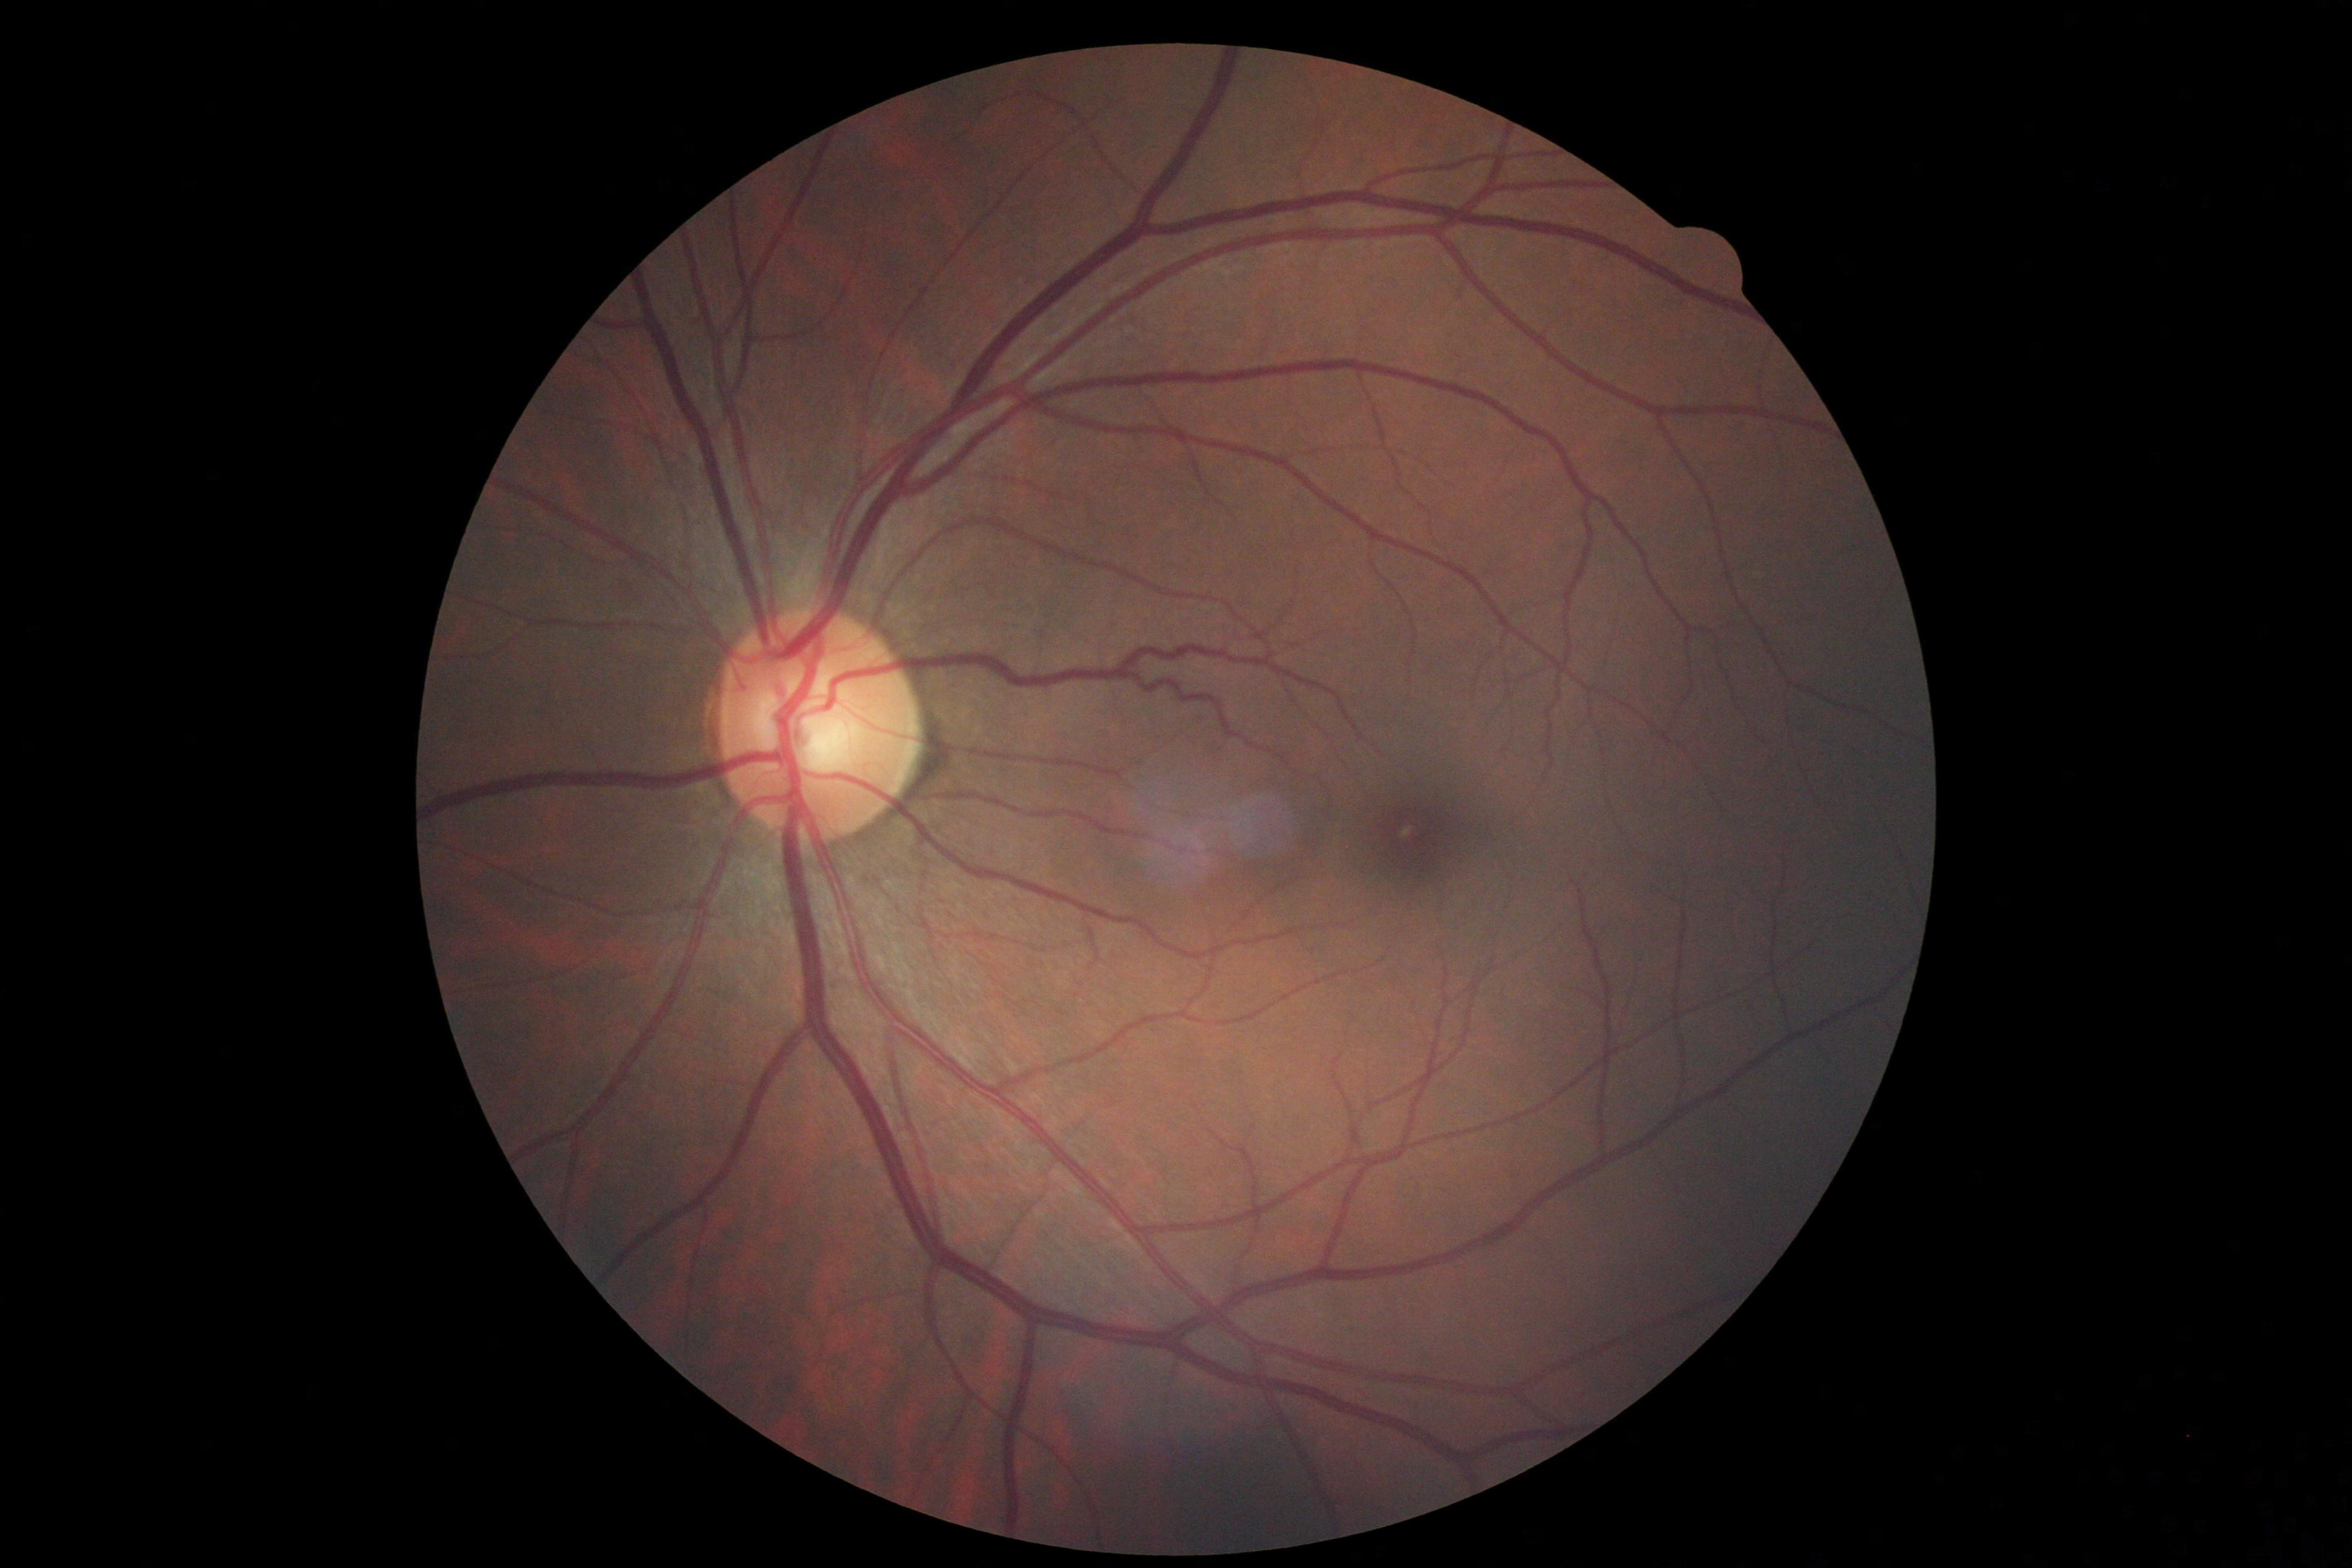Optic-nerve: (703, 612, 929, 840)
macula: (1263, 679, 1535, 978)
notch: (1657, 214, 1752, 303)
